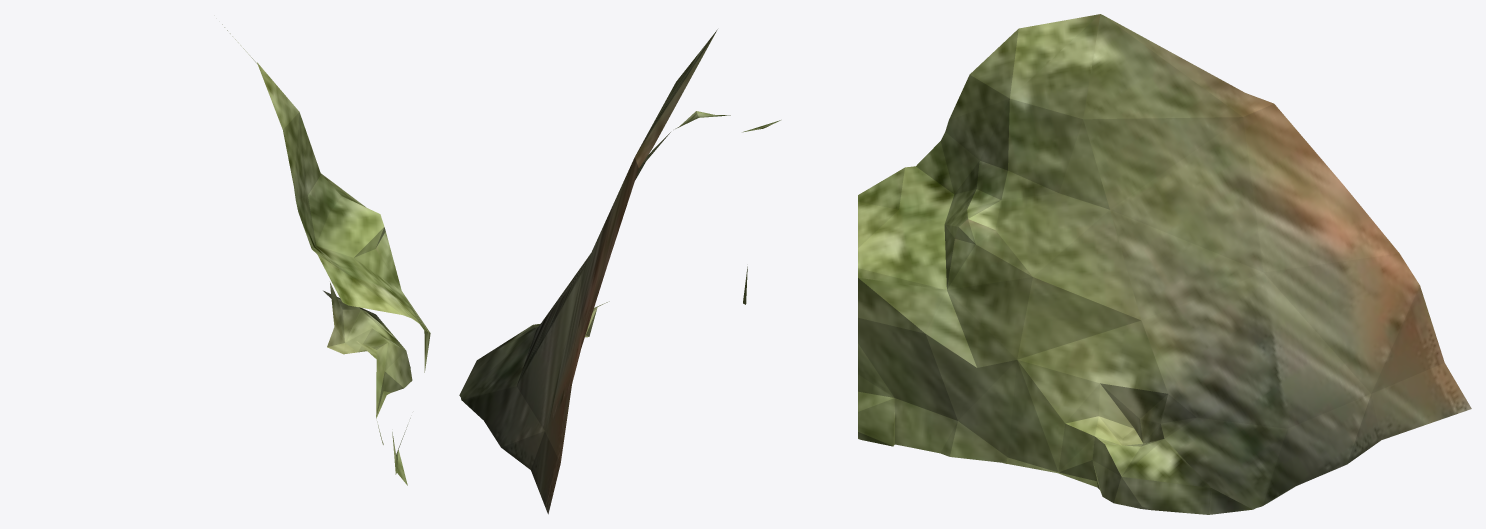
3 renders of one model, left to right at view 1: azimuth 30°, elevation 25°; view 2: azimuth 150°, elevation 25°; view 3: azimuth 270°, elevation 25°, orthographic. The views are drawn at different scales.
Bounding box in the file's own units: 1.9 × 3.31 × 4.66.
Materials: 1 (1 with a texture image).
